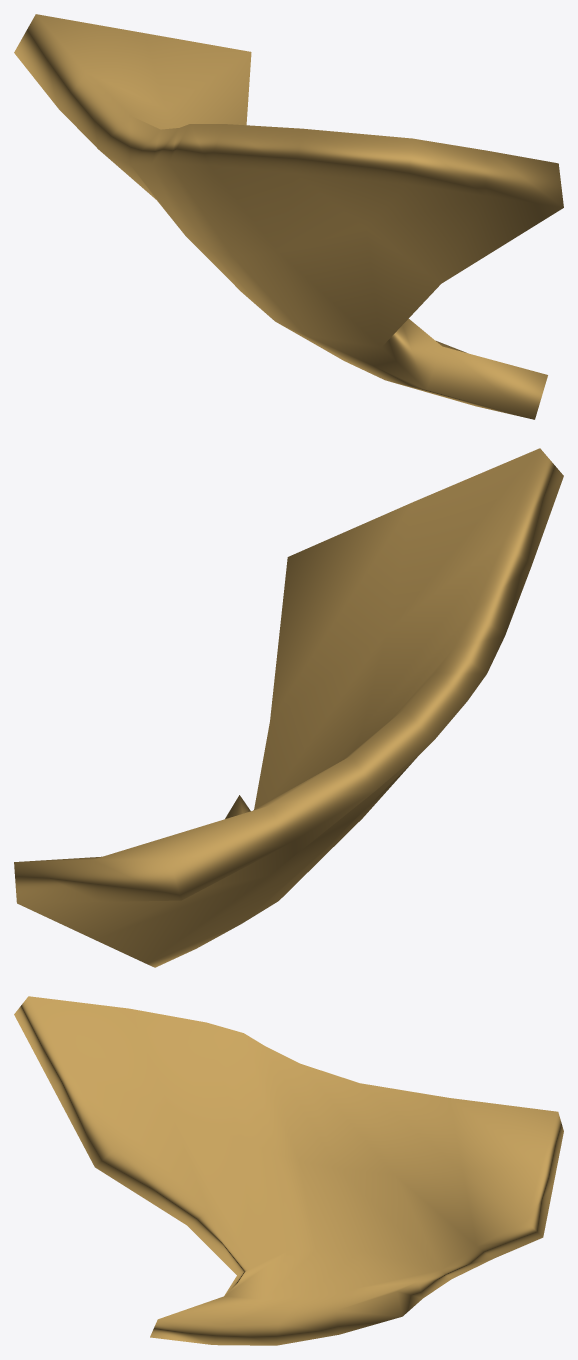
The picture shows the model from 3 angles, top to bottom: view 1: azimuth 30°, elevation 25°; view 2: azimuth 150°, elevation 25°; view 3: azimuth 270°, elevation 25°; orthographic projection. The views are drawn at different scales.
Visible parts, largest first — view 1: 左侧舟大多角小多角骨韧带; view 2: 左侧舟大多角小多角骨韧带; view 3: 左侧舟大多角小多角骨韧带.
Boxes of the visible parts, left/top/right/bottom form: 左侧舟大多角小多角骨韧带: left=14, top=14, right=563, bottom=419; 左侧舟大多角小多角骨韧带: left=14, top=448, right=563, bottom=967; 左侧舟大多角小多角骨韧带: left=14, top=996, right=563, bottom=1345.
Size of the model in its own units: 0.00588 by 0.00734 by 0.0127.
